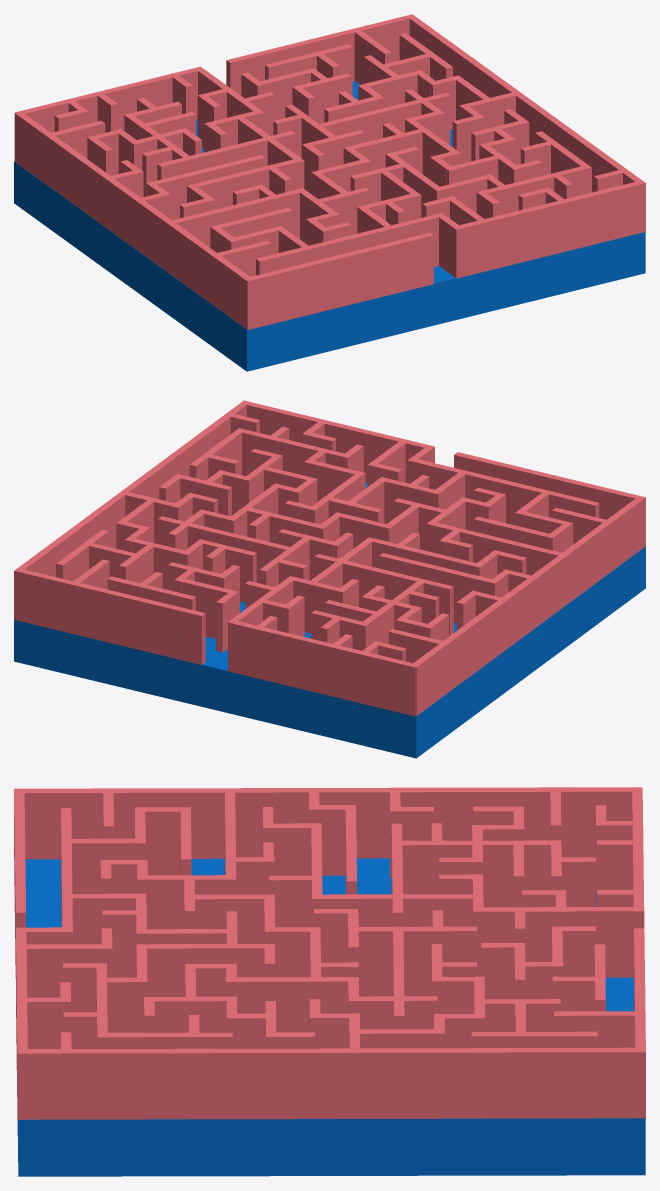
Rendered from maze_board-transformed.glb.
The picture shows the model from 3 angles, top to bottom: view 1: azimuth 30°, elevation 25°; view 2: azimuth 150°, elevation 25°; view 3: azimuth 270°, elevation 25°; orthographic projection. The views are drawn at different scales.
Visible parts, largest first — view 1: BoardMesh_Pink_0, BoardMesh_Blue_0; view 2: BoardMesh_Pink_0, BoardMesh_Blue_0; view 3: BoardMesh_Pink_0, BoardMesh_Blue_0.
Part boxes in pixels (<box>): BoardMesh_Pink_0: <box>14,14,645,330</box>; BoardMesh_Blue_0: <box>14,81,645,371</box>; BoardMesh_Pink_0: <box>14,400,645,716</box>; BoardMesh_Blue_0: <box>14,482,645,758</box>; BoardMesh_Pink_0: <box>14,787,645,1119</box>; BoardMesh_Blue_0: <box>17,858,645,1176</box>.
Size of the model in its own units: 3.02 by 0.6491 by 3.02.
